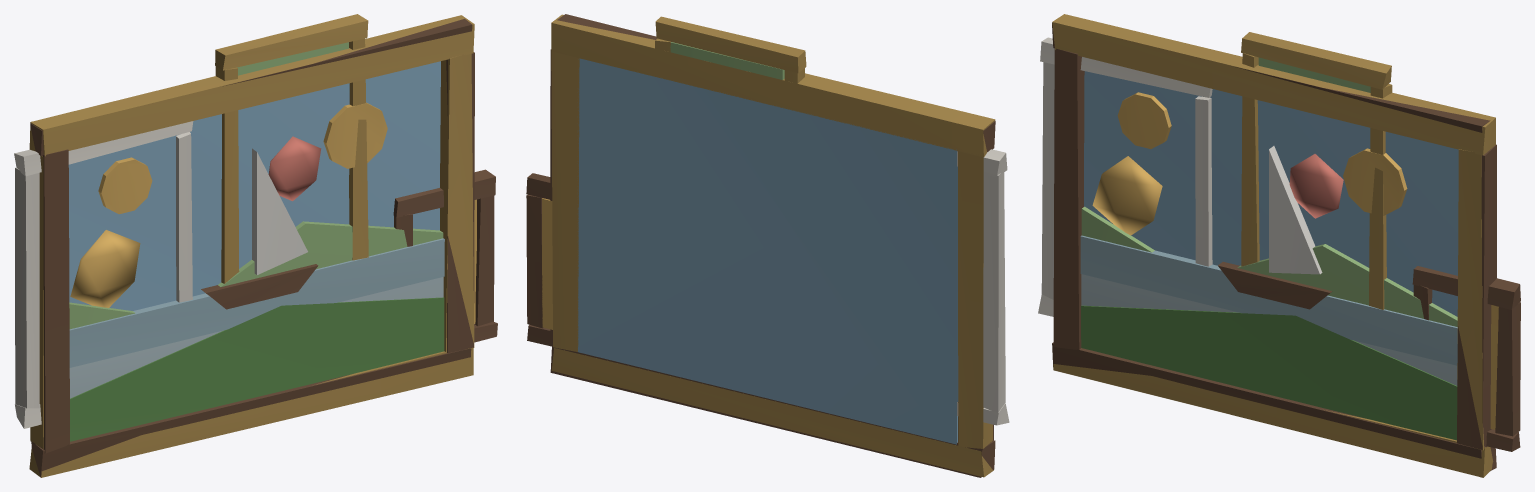
Rendered from painting.glb.
3 views of the same model, side by side, from view 1: azimuth 30°, elevation 25°; view 2: azimuth 150°, elevation 25°; view 3: azimuth 330°, elevation 25° (orthographic).
Visible parts, largest first — view 1: painting.v1.mesh, painting.v0.mesh, painting.v2.mesh; view 2: painting.v0.mesh, painting.v2.mesh, painting.v1.mesh; view 3: painting.v1.mesh, painting.v0.mesh, painting.v2.mesh.
Part boxes in pixels (x1=…): painting.v1.mesh: x1=30, y1=18, x2=474, y2=476; painting.v0.mesh: x1=29, y1=15, x2=474, y2=477; painting.v2.mesh: x1=14, y1=14, x2=497, y2=428; painting.v0.mesh: x1=551, y1=14, x2=995, y2=477; painting.v2.mesh: x1=526, y1=16, x2=1009, y2=425; painting.v1.mesh: x1=550, y1=14, x2=995, y2=477; painting.v1.mesh: x1=1052, y1=23, x2=1496, y2=471; painting.v0.mesh: x1=1052, y1=14, x2=1495, y2=477; painting.v2.mesh: x1=1038, y1=32, x2=1520, y2=451.
Size of the model in its own units: 0.9269 by 0.7052 by 0.0437.
